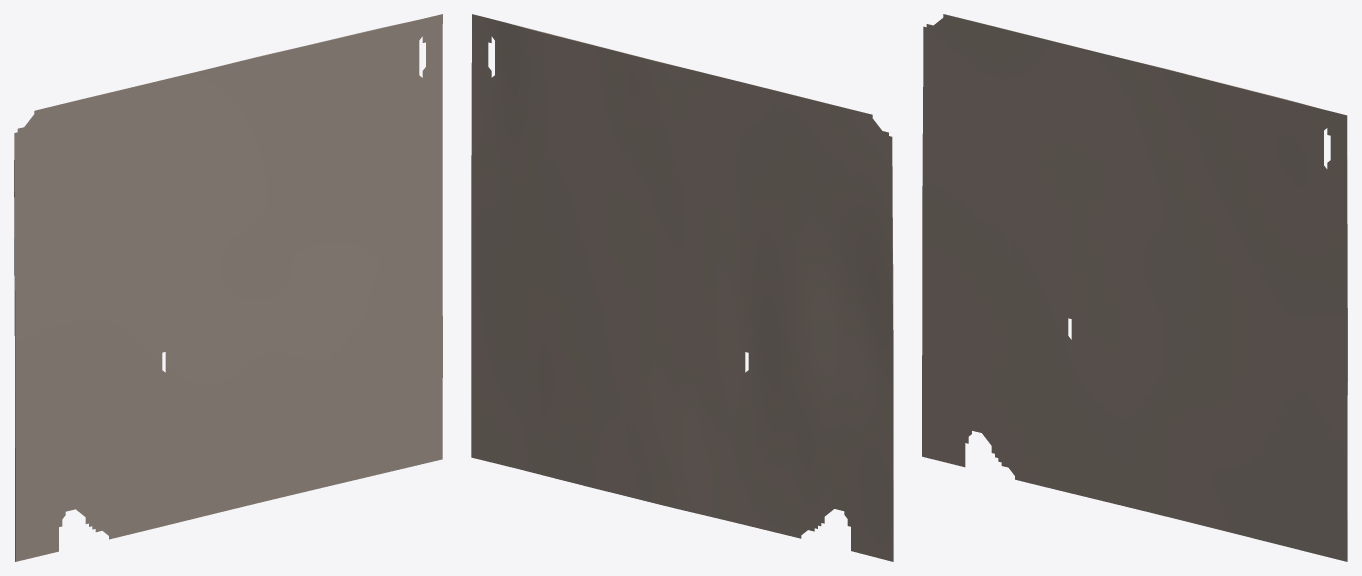
The model's file is L14_shell.glb.
3 renders of one model, left to right at view 1: azimuth 30°, elevation 25°; view 2: azimuth 150°, elevation 25°; view 3: azimuth 330°, elevation 25°, orthographic.
Parts seen in each view (by area): view 1: world; view 2: world; view 3: world.
Boxes of the visible parts, x1,y1,x2,y2 form: world: [14, 14, 442, 561]; world: [471, 14, 893, 561]; world: [922, 14, 1347, 561].
Size of the model in its own units: 12800 by 12800 by 164.
